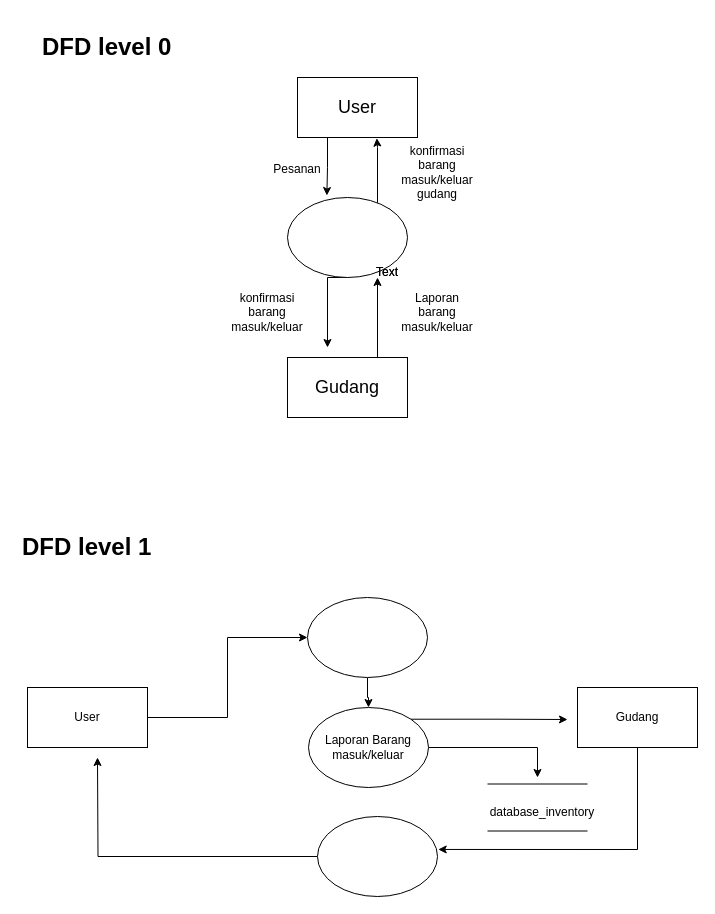
Image size: 715x914. Some labels were removed from this diagram. The box of each missing label's shape, as (x1, y1, x2, y2) in pixels:
Konfirmasi dan pembayaran: (316, 816, 438, 896)
Pesan memasukkan atau mengambil barang: (306, 596, 428, 678)
Sistem: (286, 196, 408, 278)
